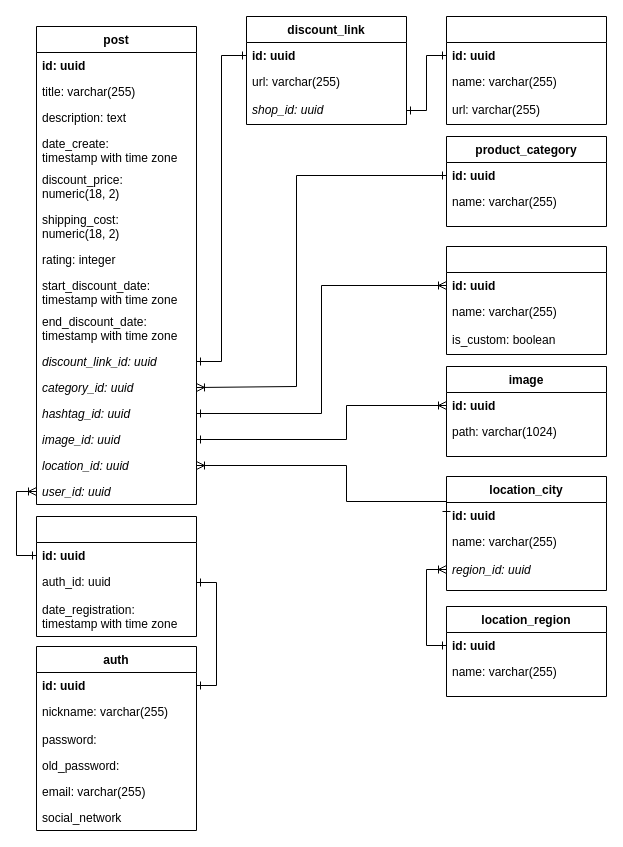
Image size: 623x847. Some labels were removed from this diagram. The shapes that lost their labels are listed below. From the top down, each one's box as (x1, y1, x2, y2) in pixels, then its label:
(446, 16, 606, 124): shop
(446, 246, 606, 354): hashtag
(36, 516, 196, 636): user
